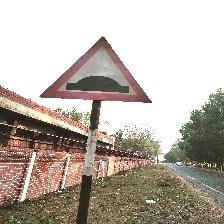Speed-breaker: (40, 36, 152, 102)
